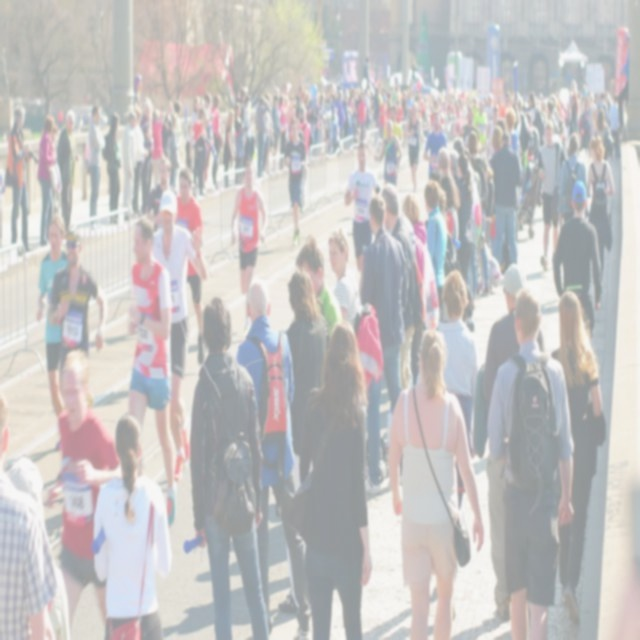pessoa: (384, 324, 486, 639), (486, 286, 576, 638), (187, 293, 270, 639), (234, 272, 312, 639), (295, 314, 375, 638), (478, 262, 547, 626), (56, 346, 124, 638), (275, 267, 330, 617), (91, 413, 176, 639), (146, 185, 209, 484), (549, 289, 604, 628), (125, 216, 179, 532), (360, 195, 408, 494), (0, 384, 54, 639), (6, 456, 72, 639), (48, 225, 108, 411), (327, 226, 384, 406), (36, 214, 71, 454), (552, 180, 604, 339), (436, 268, 479, 460), (380, 181, 418, 396), (170, 165, 210, 368), (229, 157, 270, 347), (310, 53, 380, 159), (536, 78, 628, 154), (292, 232, 344, 340), (344, 140, 383, 270), (402, 190, 427, 387), (536, 119, 567, 274), (4, 102, 34, 254), (586, 134, 616, 284), (491, 128, 522, 269), (466, 129, 491, 299), (453, 88, 536, 134), (282, 117, 309, 251), (424, 178, 449, 312), (138, 154, 178, 232), (36, 114, 59, 248), (559, 132, 589, 234), (57, 108, 80, 238), (455, 152, 475, 284), (86, 104, 107, 229), (100, 109, 122, 227), (120, 108, 141, 224), (39, 116, 58, 237), (438, 174, 461, 264), (403, 98, 423, 198), (138, 101, 154, 218), (422, 110, 447, 184), (296, 105, 312, 214), (79, 89, 94, 203), (160, 110, 179, 196), (424, 89, 454, 142), (380, 118, 402, 190), (148, 108, 166, 187), (279, 77, 312, 120), (435, 145, 456, 211), (402, 80, 425, 138), (192, 105, 208, 188), (162, 97, 178, 175), (254, 93, 268, 180), (378, 71, 402, 120), (222, 109, 236, 191), (132, 73, 144, 167), (269, 93, 282, 175), (452, 136, 474, 182), (484, 166, 496, 250), (212, 93, 222, 191), (459, 106, 481, 150), (594, 109, 612, 160), (504, 106, 521, 158), (262, 98, 272, 178), (277, 92, 287, 172), (486, 105, 499, 163), (488, 124, 505, 163), (169, 102, 182, 150), (240, 93, 253, 140), (202, 93, 214, 139), (235, 84, 249, 123), (448, 147, 461, 185), (546, 98, 559, 134), (0, 166, 5, 250), (526, 92, 538, 125), (428, 168, 444, 189), (190, 94, 202, 122)
